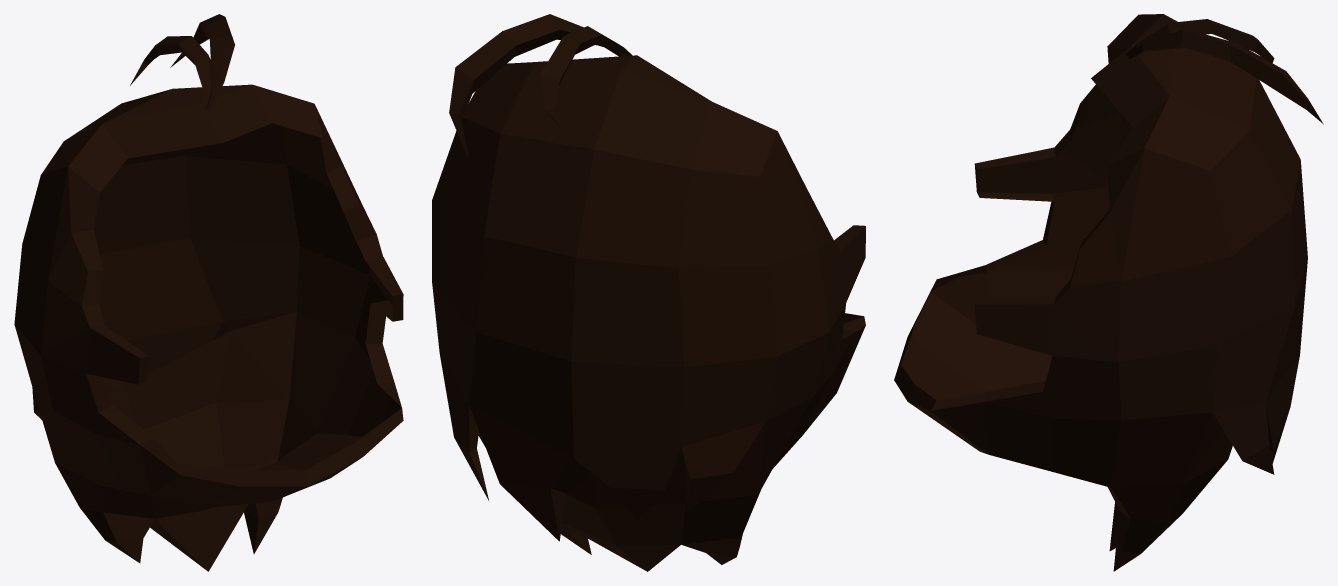
Rendered from Hair Male 09.FBX.
3 views of the same model, side by side, from view 1: azimuth 30°, elevation 25°; view 2: azimuth 150°, elevation 25°; view 3: azimuth 270°, elevation 25° (orthographic). The views are drawn at different scales.
Visible parts, largest first — view 1: Hair Male 09; view 2: Hair Male 09; view 3: Hair Male 09.
Part boxes in pixels (x1,y1,x2,y2): Hair Male 09: (14,14,403,571); Hair Male 09: (432,14,865,571); Hair Male 09: (894,14,1323,571).
Size of the model in its own units: 34.1 by 49.53 by 35.11.
